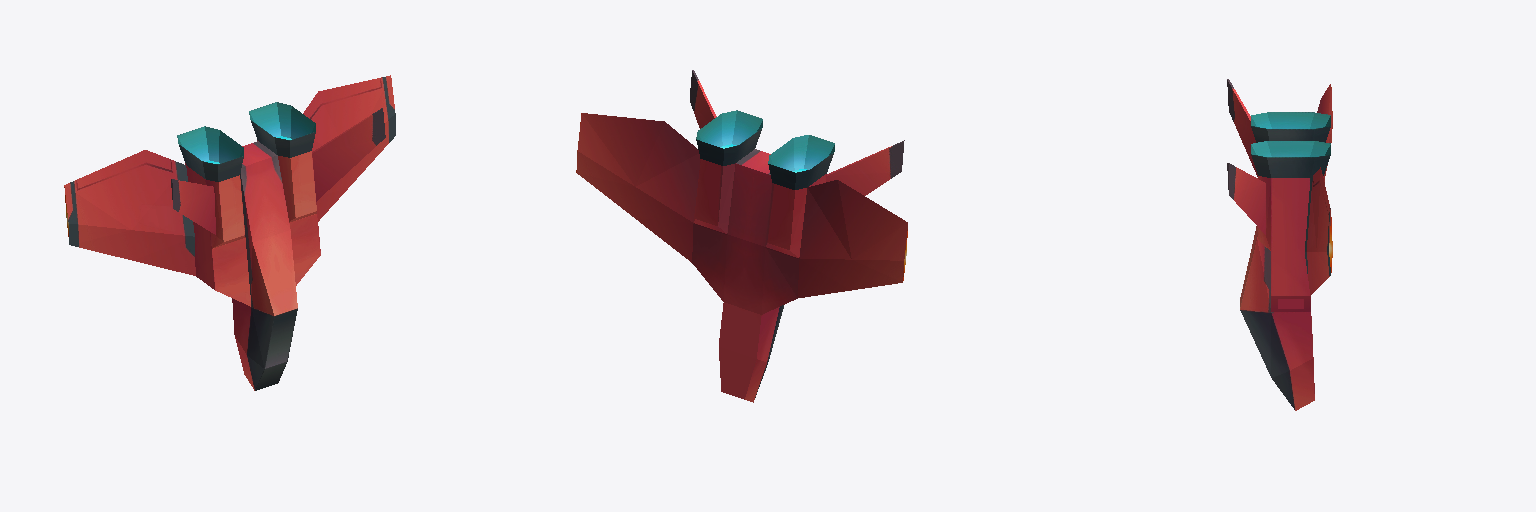
The picture shows the model from 3 angles: view 1: azimuth 30°, elevation 25°; view 2: azimuth 150°, elevation 25°; view 3: azimuth 270°, elevation 25°; orthographic projection.
Visible parts, largest first — view 1: ship_Cube.001; view 2: ship_Cube.001; view 3: ship_Cube.001.
Part boxes in pixels (bbox=[...]): ship_Cube.001: bbox=[64, 75, 395, 390]; ship_Cube.001: bbox=[576, 70, 907, 402]; ship_Cube.001: bbox=[1227, 79, 1332, 410].
Bounding box in the file's own units: 4.89 × 4.01 × 1.35.
1 materials, 1 textured.